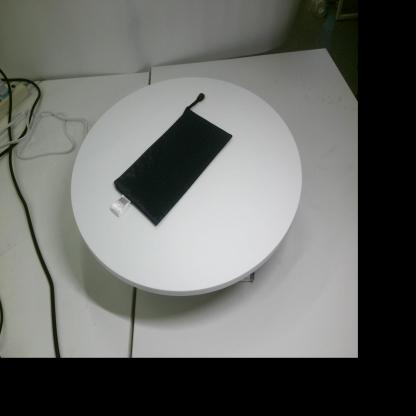Stationery: (110, 93, 233, 225)
